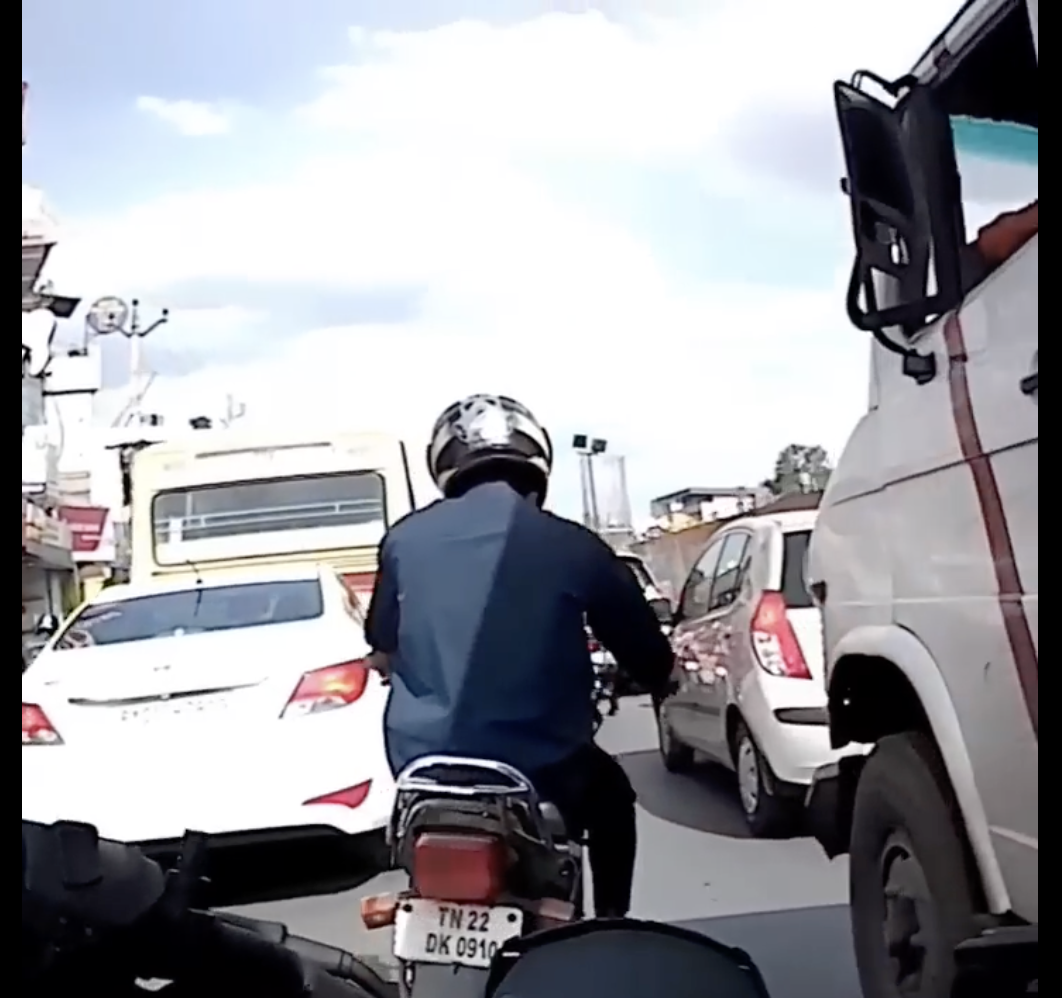motor: (363, 610, 656, 989)
number: (391, 890, 526, 970)
with helmet: (421, 395, 556, 503)
